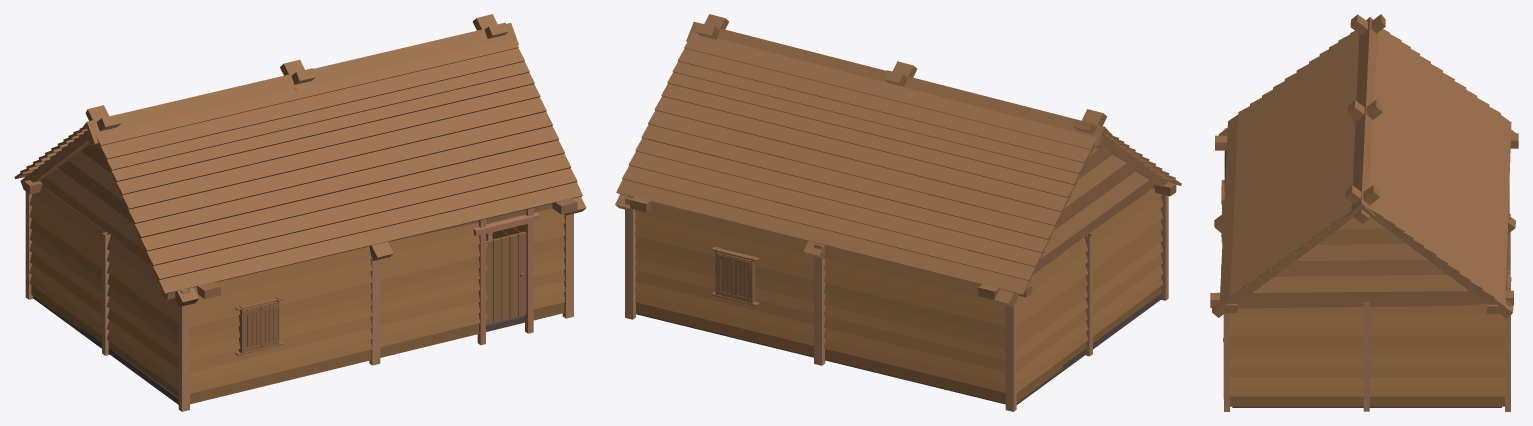
File: WoodHouseWoodRoof.gltf
3 views of the same model, side by side, from view 1: azimuth 30°, elevation 25°; view 2: azimuth 150°, elevation 25°; view 3: azimuth 270°, elevation 25° (orthographic). The views are drawn at different scales.
Parts seen in each view (by area): view 1: Icosphere; view 2: Icosphere; view 3: Icosphere.
Part boxes in pixels (x1,y1,x2,y2): Icosphere: (14, 14, 586, 411); Icosphere: (615, 14, 1181, 411); Icosphere: (1210, 14, 1518, 411).
Size of the model in its own units: 9.02 by 5.09 by 6.3.
